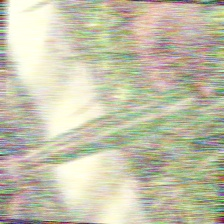Leaf_Blast: (20, 83, 205, 157)
